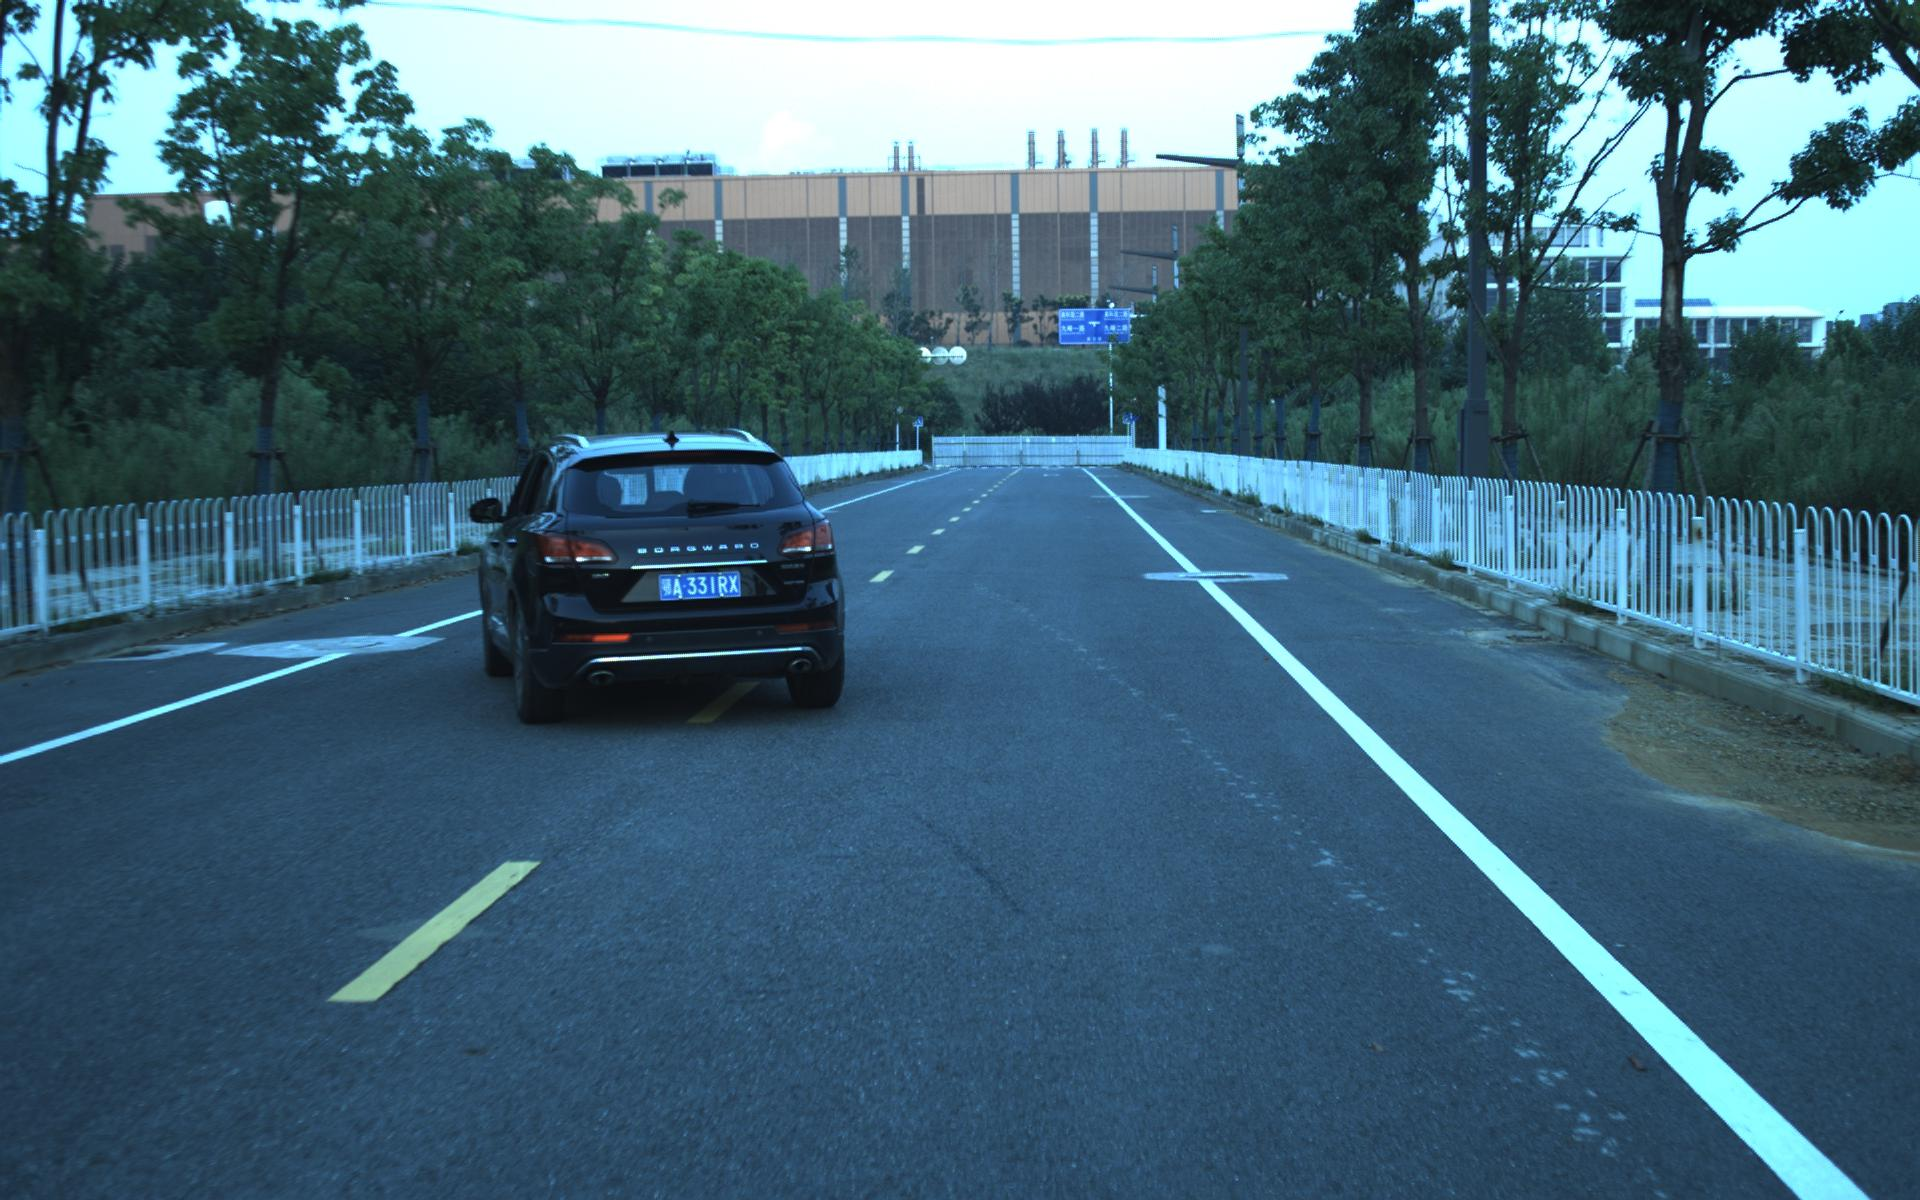Car: (469, 423, 858, 733)
